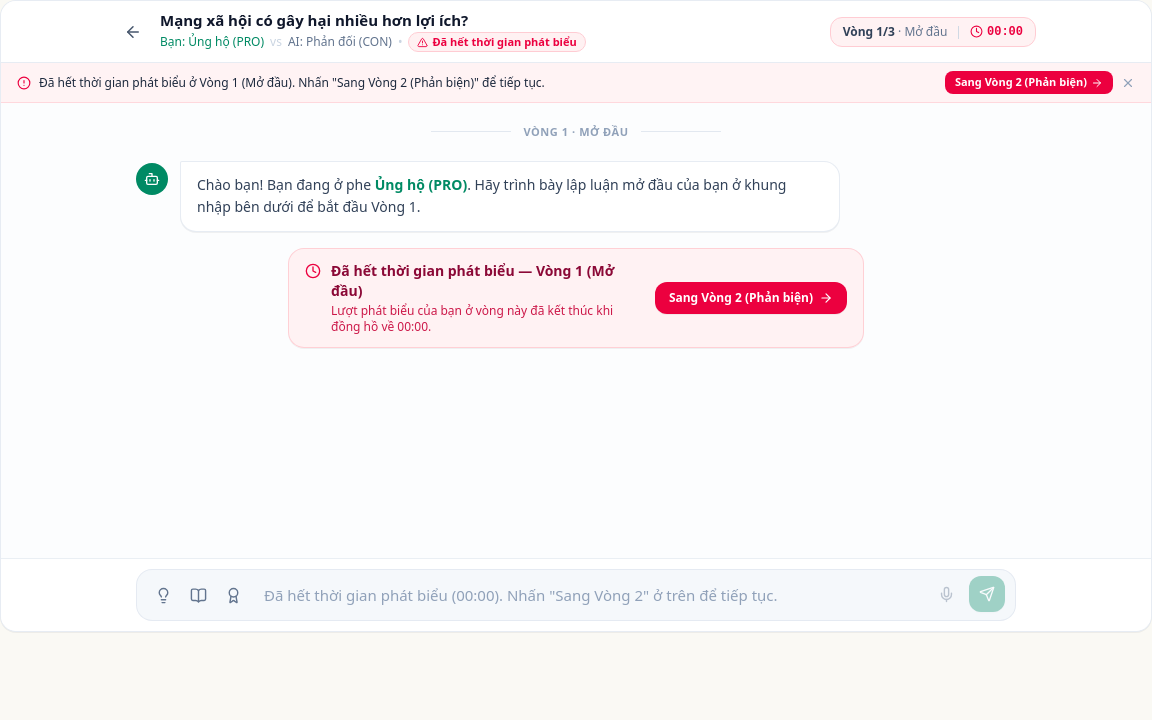
it: DebateRoom Timer Expiration & State Machine › 4. completes the final round (Conclusion / Round 3) both on timeout at 00:00 and on submission
Click the button with test id "advance-round-after-timeout-btn" at coordinates (751, 298), box [655,282,847,314]
Wait 120000 ms
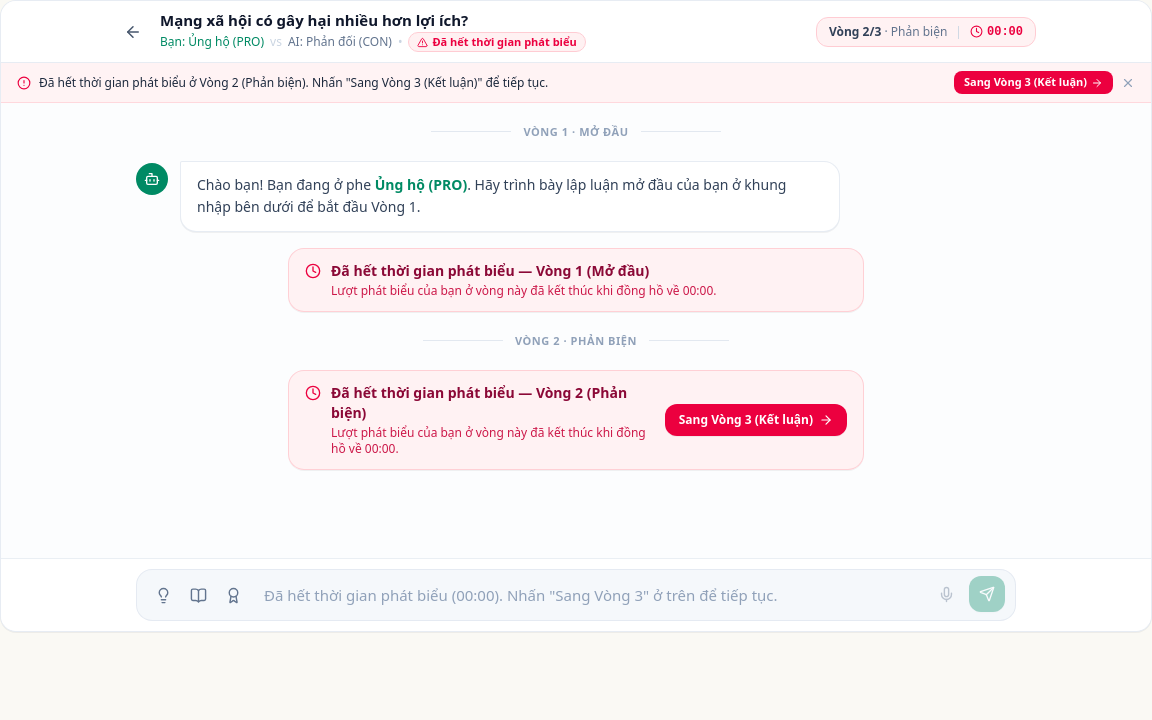
Click the button with test id "advance-round-after-timeout-btn" at coordinates (756, 420), box [665,404,847,436]
Wait 120000 ms
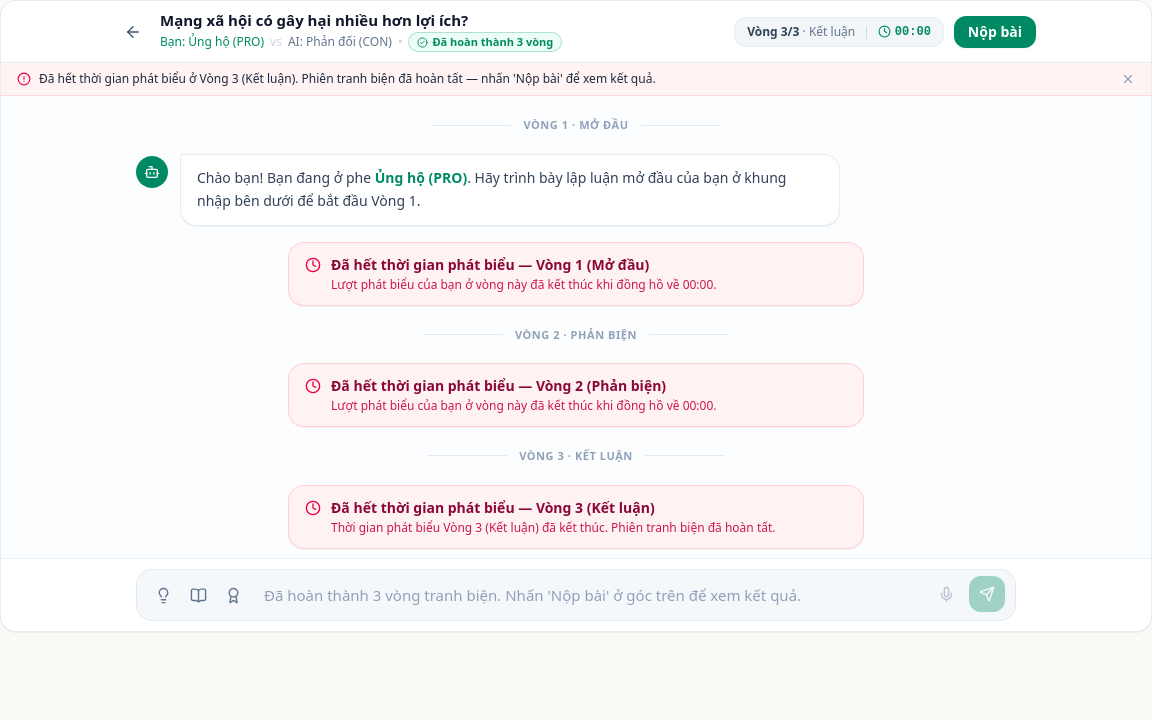
Check: the element with test id "debate-countdown-timer" reads "00:00", box [895,25,931,39]
Check: the text "Vòng 3/3 · Kết luận" is shown, box [747,24,855,40]
Check: the element with test id "turn-status-indicator" reads "Đã hoàn thành 3 vòng", box [432,34,553,49]
